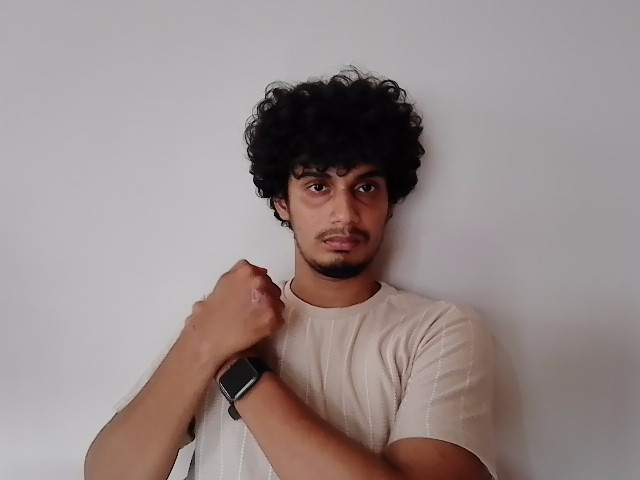love: (190, 259, 288, 372)
